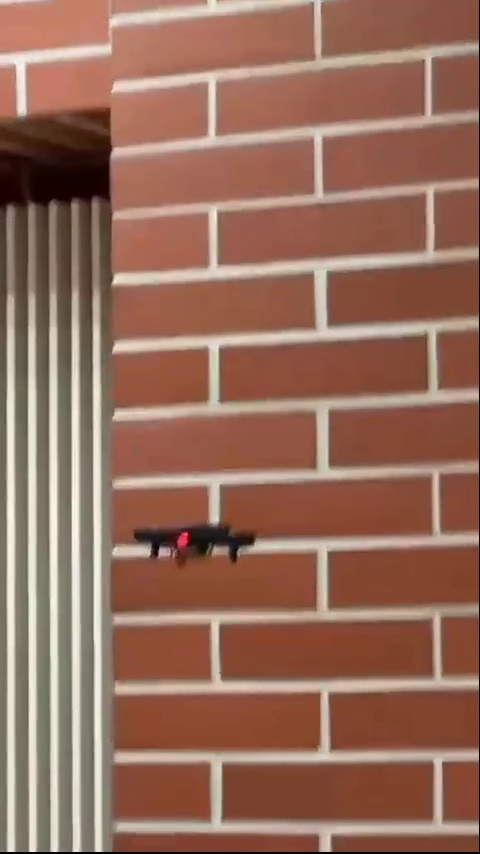drone: (132, 520, 263, 569)
